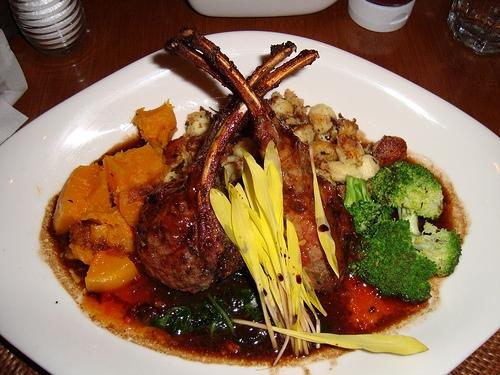broccoli: (348, 218, 438, 301), (366, 161, 444, 236), (412, 222, 462, 278), (344, 175, 381, 234)
